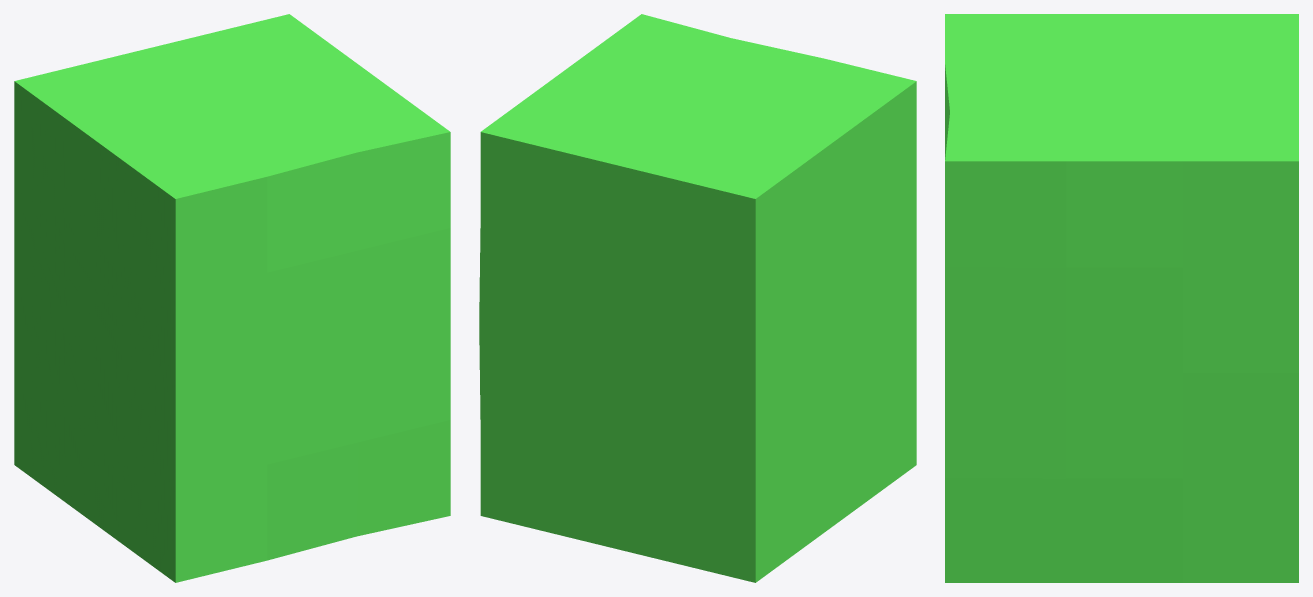
Rendered from Tiles3D_Sol_angle_ext_O.fbx.
3 renders of one model, left to right at view 1: azimuth 30°, elevation 25°; view 2: azimuth 150°, elevation 25°; view 3: azimuth 270°, elevation 25°, orthographic. The views are drawn at different scales.
Visible parts, largest first — view 1: Tiles3D_sol_angle_ext_E; view 2: Tiles3D_sol_angle_ext_E; view 3: Tiles3D_sol_angle_ext_E.
Boxes of the visible parts, <box> form: Tiles3D_sol_angle_ext_E: <box>14,14,450,582</box>; Tiles3D_sol_angle_ext_E: <box>479,14,916,582</box>; Tiles3D_sol_angle_ext_E: <box>945,14,1298,582</box>.
Bounding box in the file's own units: 75.35 × 100 × 76.1.
